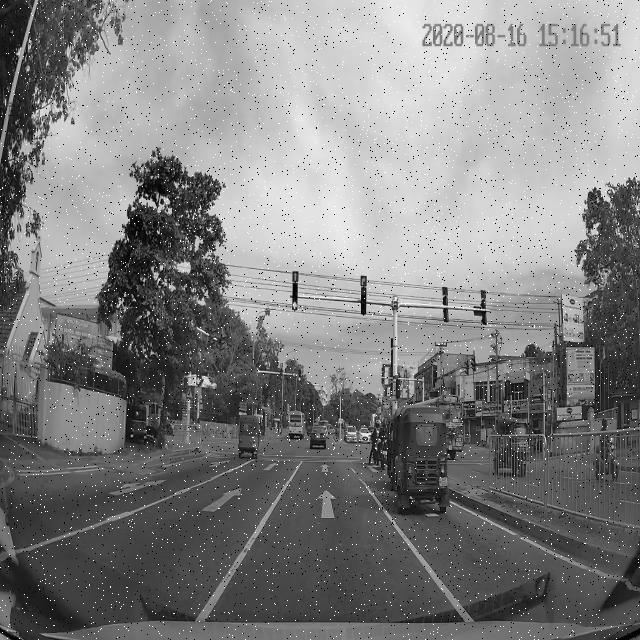forward: (258, 482, 402, 523), (287, 460, 359, 475)
